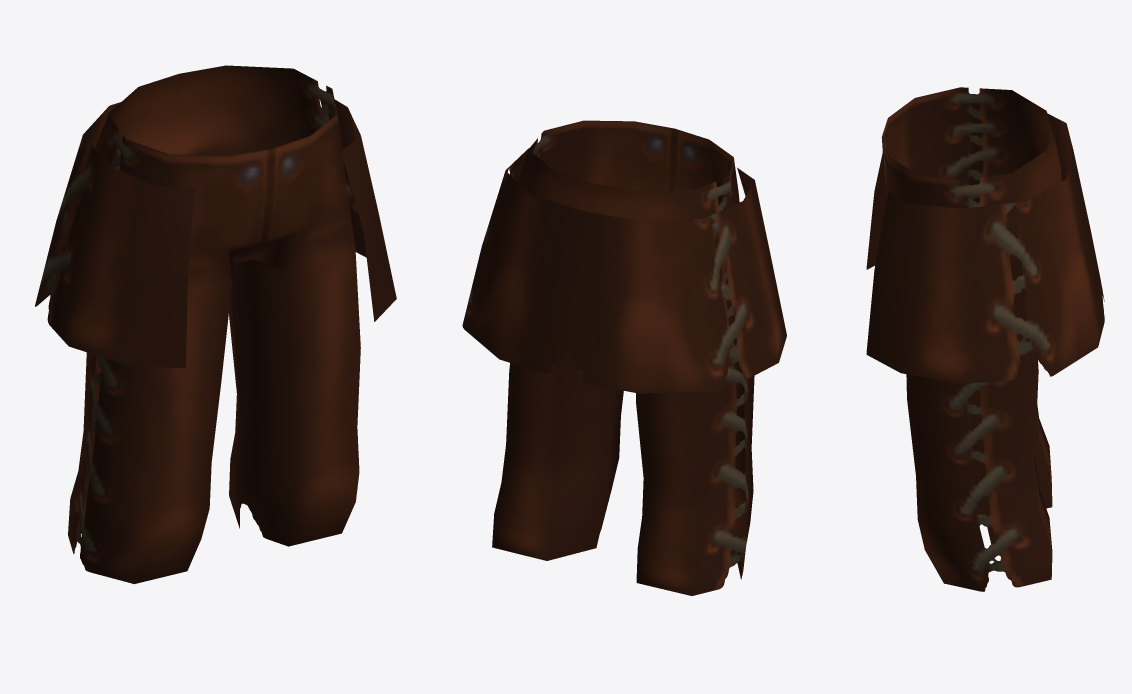
Rendered from hum_sturm_01_10a9d44b.glb.
The picture shows the model from 3 angles, left to right: view 1: azimuth 30°, elevation 25°; view 2: azimuth 150°, elevation 25°; view 3: azimuth 270°, elevation 25°; orthographic projection. The views are drawn at different scales.
Size of the model in its own units: 0.7273 by 1.26 by 0.5499.
1 material, 1 textured.
